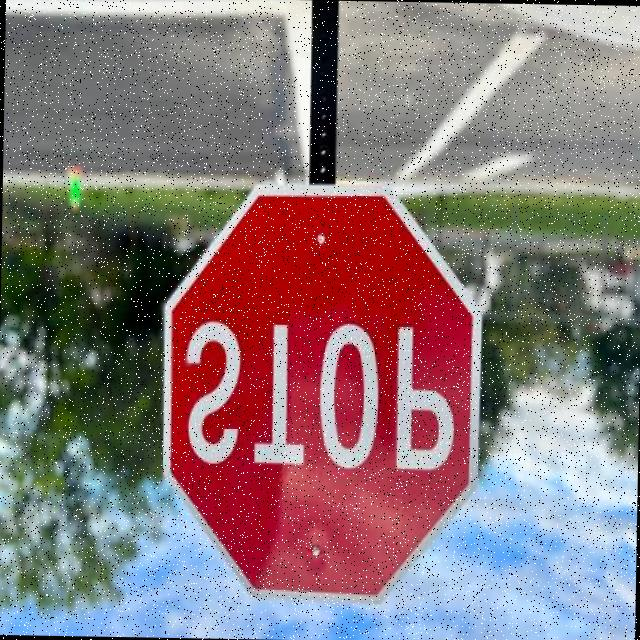stop: (152, 177, 484, 612)
